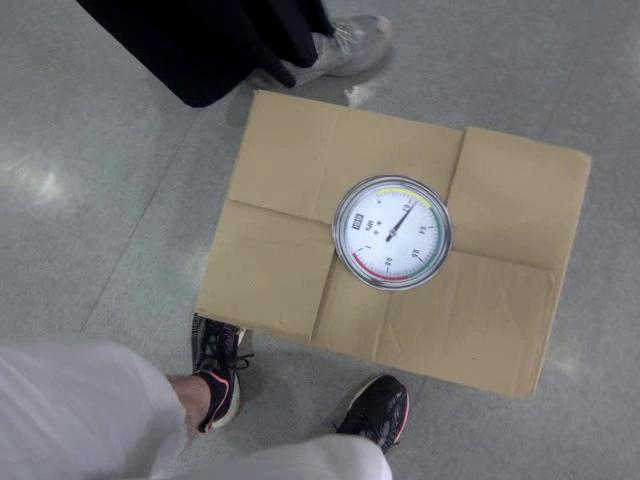Dashboard: (332, 176, 450, 290)
ssi: (351, 211, 363, 233)
